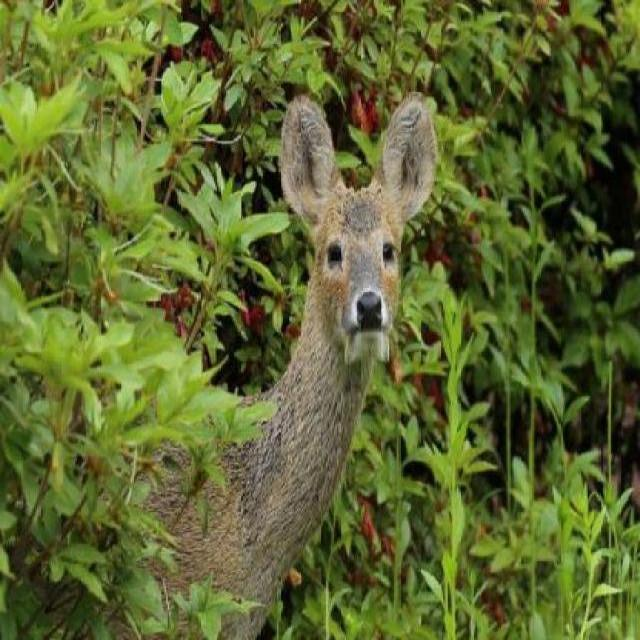deer: (150, 90, 438, 639)
